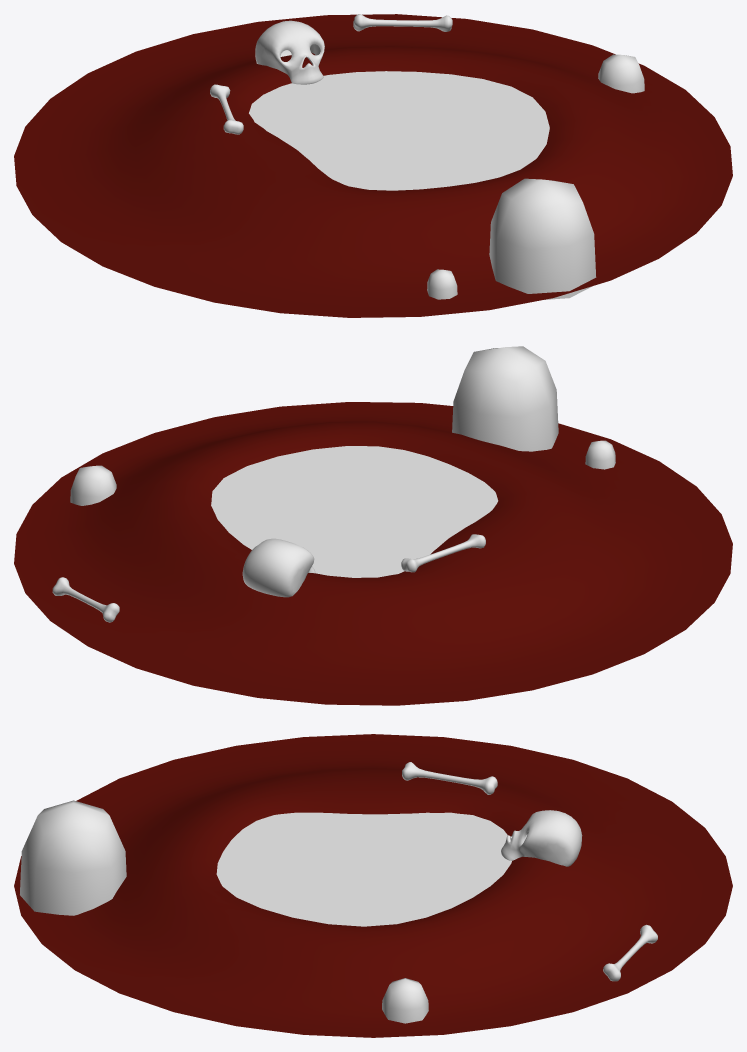
Rendered from K_Bog.fbx.
3 renders of one model, top to bottom at view 1: azimuth 30°, elevation 25°; view 2: azimuth 150°, elevation 25°; view 3: azimuth 270°, elevation 25°, orthographic.
Visible parts, largest first — view 1: Cube.025, Plane.003, Cube.028, Cube.026, Cube.027, Cylinder.001, Cube.029, Cylinder; view 2: Cube.025, Plane.003, Cube.028, Cube.026, Cube.027, Cylinder, Cylinder.001, Cube.029; view 3: Cube.025, Plane.003, Cube.028, Cube.026, Cube.027, Cylinder, Cylinder.001.
Part boxes in pixels (box(x1,y1,x2,y2)): Cube.025: box(14, 14, 732, 317); Plane.003: box(249, 71, 549, 190); Cube.028: box(489, 178, 596, 299); Cube.026: box(255, 20, 324, 84); Cube.027: box(598, 54, 644, 93); Cylinder.001: box(353, 14, 452, 31); Cube.029: box(427, 269, 457, 299); Cylinder: box(210, 84, 243, 134); Cube.025: box(14, 402, 732, 705); Plane.003: box(211, 446, 498, 577); Cube.028: box(452, 346, 558, 451); Cube.026: box(242, 538, 315, 597); Cube.027: box(70, 465, 116, 505); Cylinder: box(401, 534, 485, 572); Cylinder.001: box(52, 577, 119, 622); Cube.029: box(585, 440, 615, 469); Cube.025: box(14, 734, 732, 1037); Plane.003: box(216, 812, 511, 926); Cube.028: box(20, 800, 126, 915); Cube.026: box(501, 810, 582, 866); Cube.027: box(382, 978, 428, 1023); Cylinder: box(402, 762, 497, 794); Cylinder.001: box(603, 924, 657, 981).
Size of the model in its own units: 1076 by 166 by 1076.
